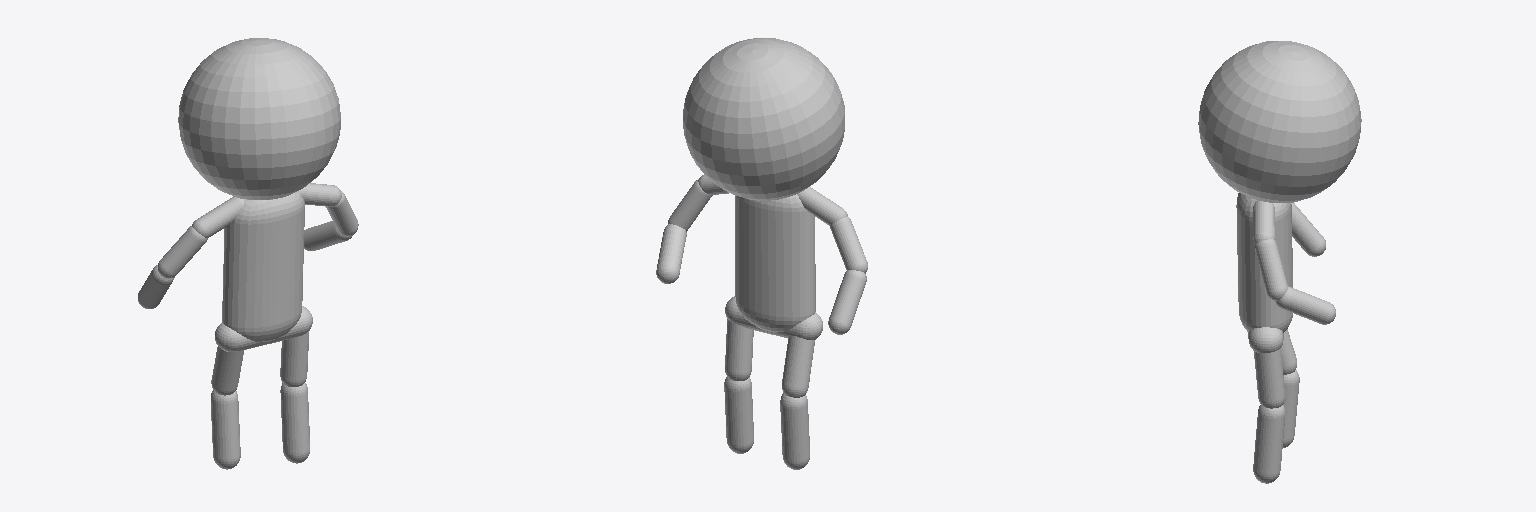
Rendered from Stickman_000048.obj.
3 views of the same model, side by side, from view 1: azimuth 30°, elevation 25°; view 2: azimuth 150°, elevation 25°; view 3: azimuth 270°, elevation 25° (orthographic).
Parts seen in each view (by area): view 1: Head_Sphere.001, Body_Roundcube.002, LowerLegLeft_Roundcube.013, LowerLegRight_Roundcube.011, UpperLegLeft_Roundcube.012, Hip_Roundcube.005, UpperArmRight_Roundcube.015, UpperLegRight_Roundcube.010, ShoulderRight_Roundcube.014, LowerArmLeft_Roundcube.019, LowerArmRight_Roundcube.016, ShoulderLeft_Roundcube.017 (+1 smaller); view 2: Head_Sphere.001, Body_Roundcube.002, LowerLegLeft_Roundcube.013, LowerLegRight_Roundcube.011, UpperLegRight_Roundcube.010, LowerArmRight_Roundcube.016, UpperLegLeft_Roundcube.012, LowerArmLeft_Roundcube.019, UpperArmRight_Roundcube.015, Hip_Roundcube.005, UpperArmLeft_Roundcube.018, ShoulderRight_Roundcube.014; view 3: Head_Sphere.001, Body_Roundcube.002, LowerLegLeft_Roundcube.013, UpperLegLeft_Roundcube.012, UpperArmLeft_Roundcube.018, LowerArmLeft_Roundcube.019, LowerArmRight_Roundcube.016, LowerLegRight_Roundcube.011, ShoulderLeft_Roundcube.017, Hip_Roundcube.005.
Part boxes in pixels (x1,y1,x2,y2): Head_Sphere.001: (178, 38, 340, 199); Body_Roundcube.002: (222, 192, 304, 341); LowerLegLeft_Roundcube.013: (280, 383, 309, 463); LowerLegRight_Roundcube.011: (211, 390, 240, 469); UpperLegLeft_Roundcube.012: (280, 330, 309, 386); Hip_Roundcube.005: (215, 306, 312, 351); UpperArmRight_Roundcube.015: (158, 226, 207, 278); UpperLegRight_Roundcube.010: (211, 346, 243, 395); ShoulderRight_Roundcube.014: (192, 196, 243, 237); LowerArmLeft_Roundcube.019: (304, 221, 353, 250); LowerArmRight_Roundcube.016: (138, 265, 174, 308); ShoulderLeft_Roundcube.017: (297, 183, 341, 206); Head_Sphere.001: (683, 38, 844, 200); Body_Roundcube.002: (735, 194, 815, 332); LowerLegLeft_Roundcube.013: (724, 377, 753, 453); LowerLegRight_Roundcube.011: (780, 393, 809, 469); UpperLegRight_Roundcube.010: (782, 336, 814, 397); LowerArmRight_Roundcube.016: (828, 270, 866, 334); UpperLegLeft_Roundcube.012: (725, 319, 753, 380); LowerArmLeft_Roundcube.019: (656, 224, 686, 283); UpperArmRight_Roundcube.015: (830, 216, 867, 273); Hip_Roundcube.005: (725, 296, 822, 339); UpperArmLeft_Roundcube.018: (668, 179, 712, 231); ShoulderRight_Roundcube.014: (797, 187, 847, 225); Head_Sphere.001: (1198, 41, 1361, 202); Body_Roundcube.002: (1236, 193, 1292, 332); LowerLegLeft_Roundcube.013: (1253, 405, 1284, 483); UpperLegLeft_Roundcube.012: (1254, 348, 1284, 408); UpperArmLeft_Roundcube.018: (1255, 239, 1287, 300); LowerArmLeft_Roundcube.019: (1275, 286, 1335, 324); LowerArmRight_Roundcube.016: (1291, 203, 1325, 256); LowerLegRight_Roundcube.011: (1283, 370, 1299, 447); ShoulderLeft_Roundcube.017: (1253, 200, 1274, 243); Hip_Roundcube.005: (1248, 327, 1283, 352).
Bounding box in the file's own units: 5.93 × 11.88 × 4.19.